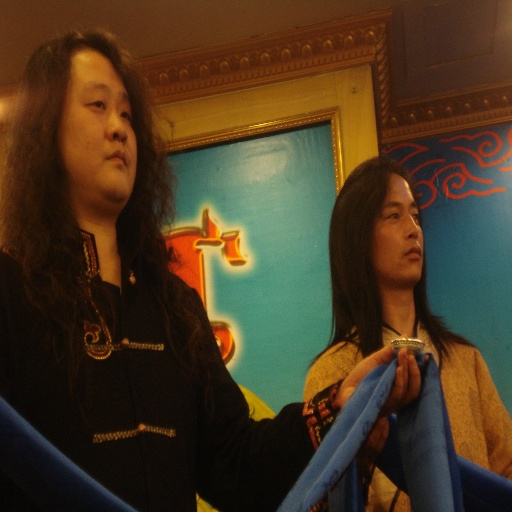hand: (341, 332, 429, 415), (357, 412, 390, 469)
